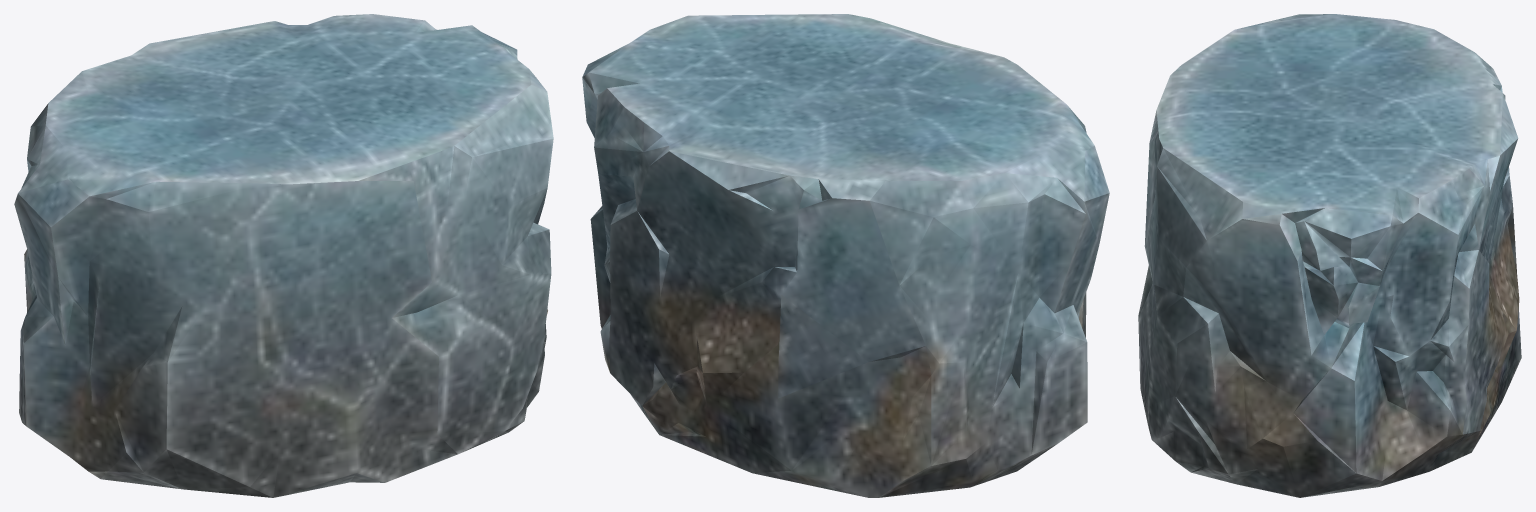
Rendered from res.material_basic.glb.
The picture shows the model from 3 angles, left to right: view 1: azimuth 30°, elevation 25°; view 2: azimuth 150°, elevation 25°; view 3: azimuth 270°, elevation 25°; orthographic projection. The views are drawn at different scales.
Visible parts, largest first — view 1: body; view 2: body; view 3: body.
Boxes of the visible parts, x1,y1,x2,y2 form: body: (14,14,553,497); body: (582,14,1109,497); body: (1138,14,1521,497).
Size of the model in its own units: 0.4179 by 0.2507 by 0.2947.
1 material, 1 textured.
